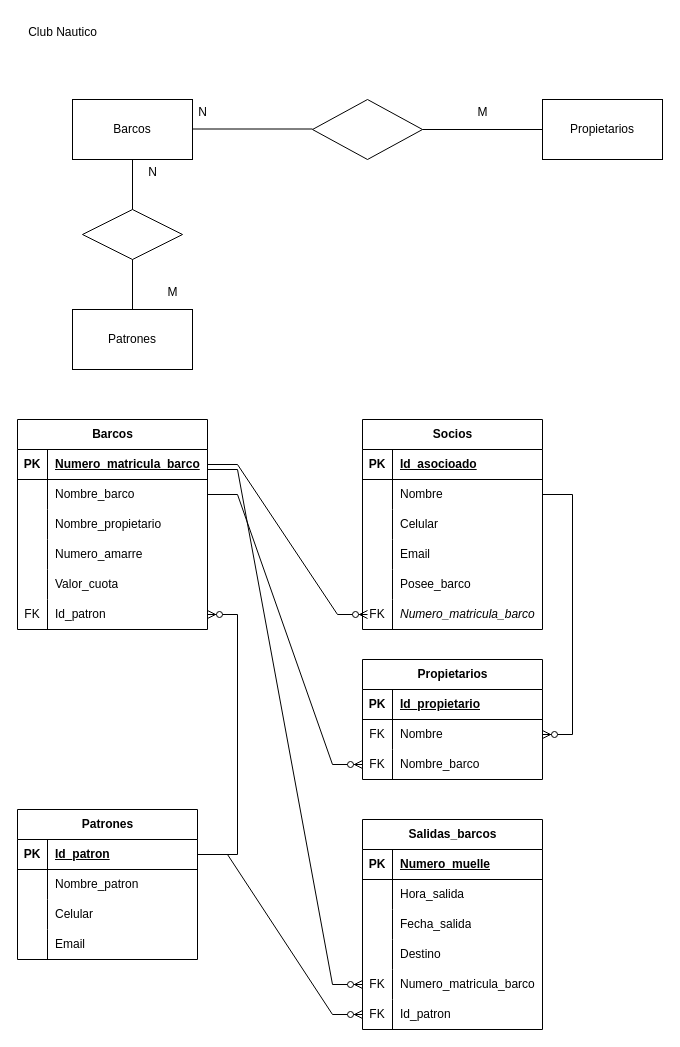
Image size: 680x1047. Some labels were removed from this diagram. The centre of each missing label's shape, as x and y in pixels:
"posee" goes at point (367, 129).
"tripula" goes at point (132, 234).
